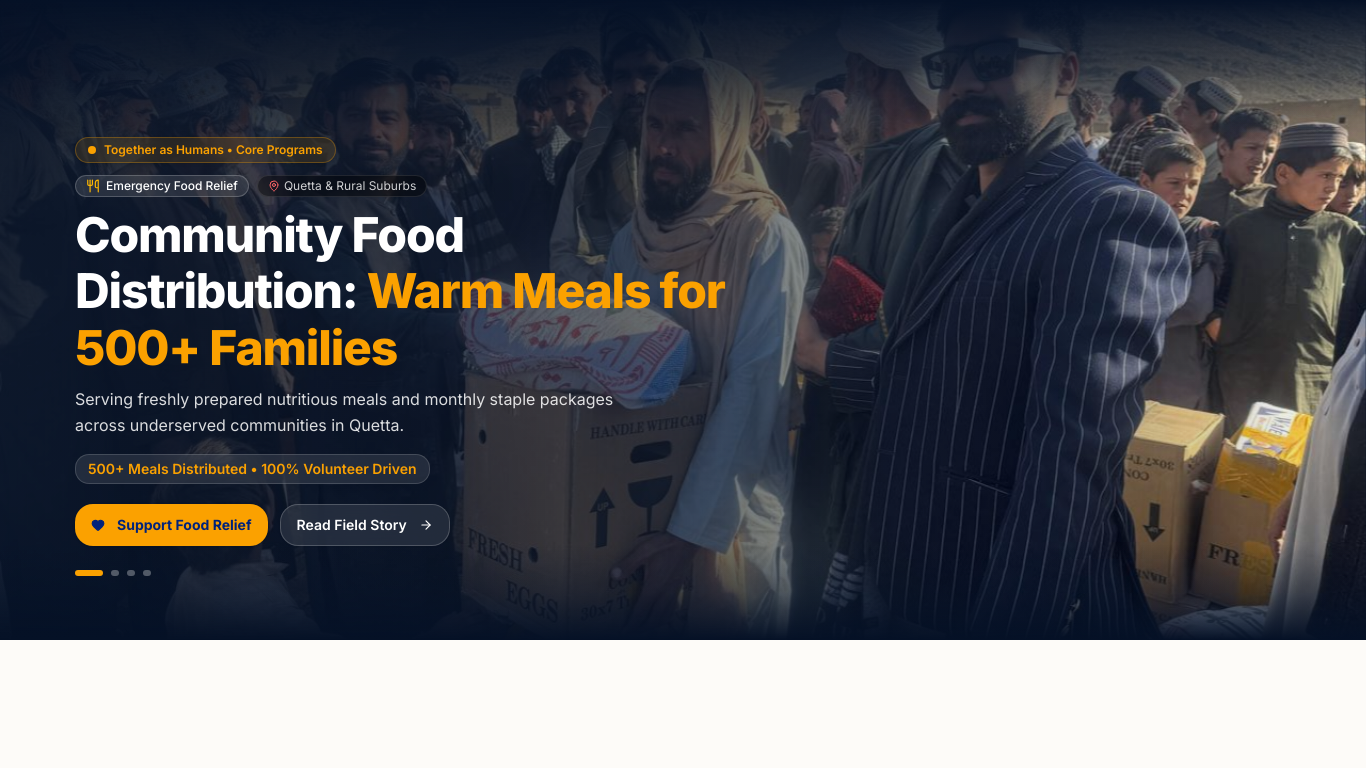
Test case: Hero › switches slides when an indicator dot is clicked
Click the button named "Go to slide 2": (115, 573) [111, 570, 119, 576]
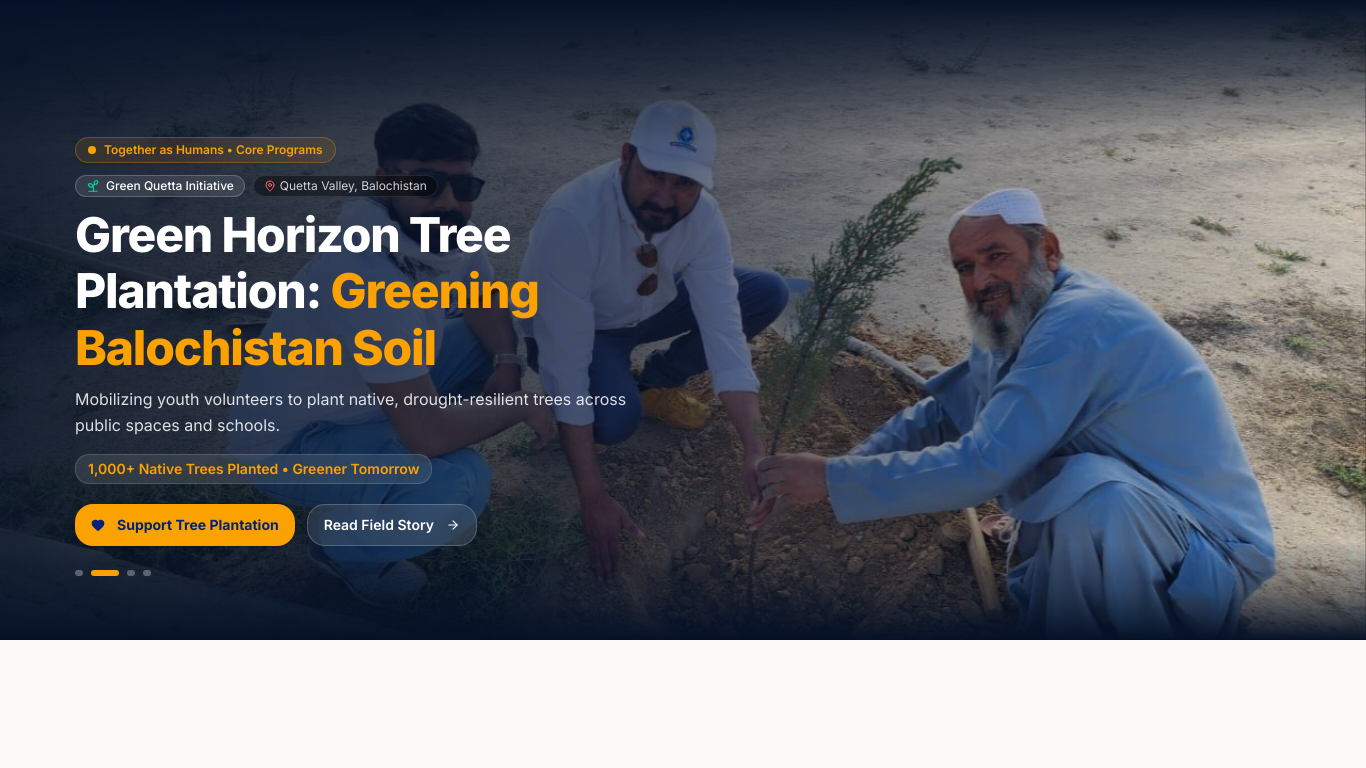
Now the heading "Green Horizon Tree Plantation: Greening Balochistan Soil" is shown, box [75, 205, 539, 377]
